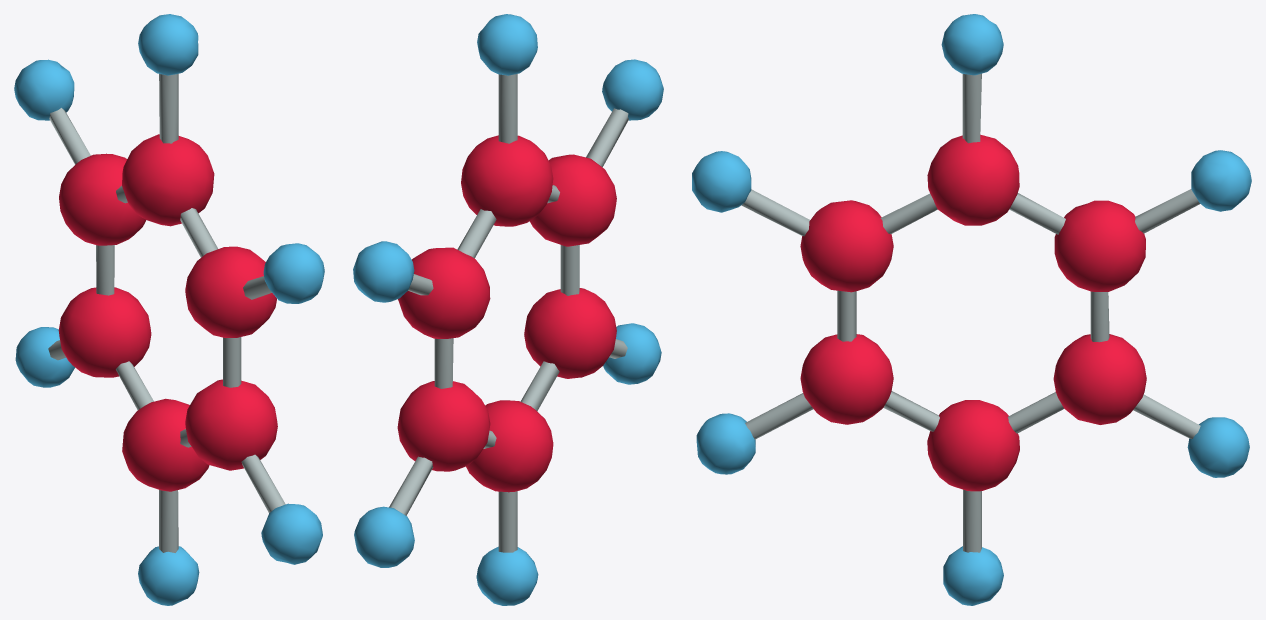
File: ChemistryMol01.FBX
3 renders of one model, left to right at view 1: azimuth 30°, elevation 25°; view 2: azimuth 150°, elevation 25°; view 3: azimuth 270°, elevation 25°, orthographic.
Parts seen in each view (by area): view 1: ChemistryMol01; view 2: ChemistryMol01; view 3: ChemistryMol01.
Boxes of the visible parts, x1,y1,x2,y2 form: ChemistryMol01: (14,14,324,605); ChemistryMol01: (353,14,663,605); ChemistryMol01: (692,14,1251,605).
Size of the model in its own units: 12.46 by 86.53 by 74.77.
